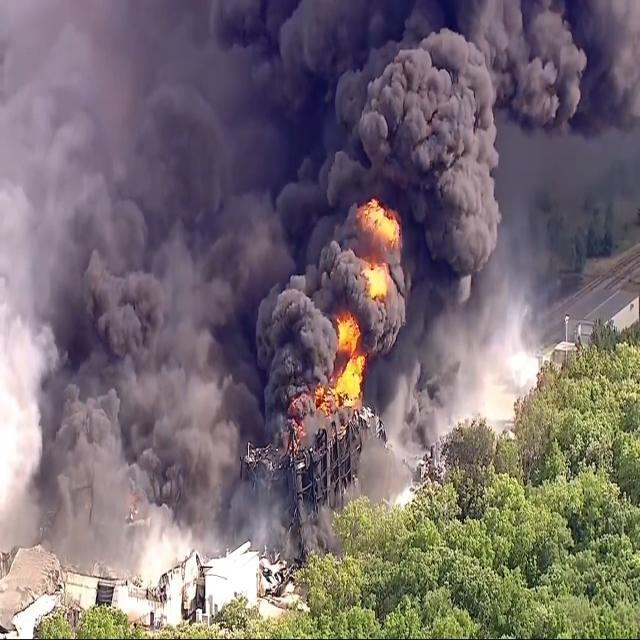Fire: (279, 201, 408, 450)
Smoke: (217, 0, 640, 443), (22, 117, 283, 546)
